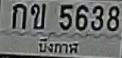3: (90, 4, 103, 30)
5: (59, 4, 72, 29)
6: (75, 4, 87, 30)
8: (106, 5, 119, 30)
A01: (11, 3, 26, 28)
A02: (30, 3, 45, 29)
BKN: (35, 37, 82, 55)
